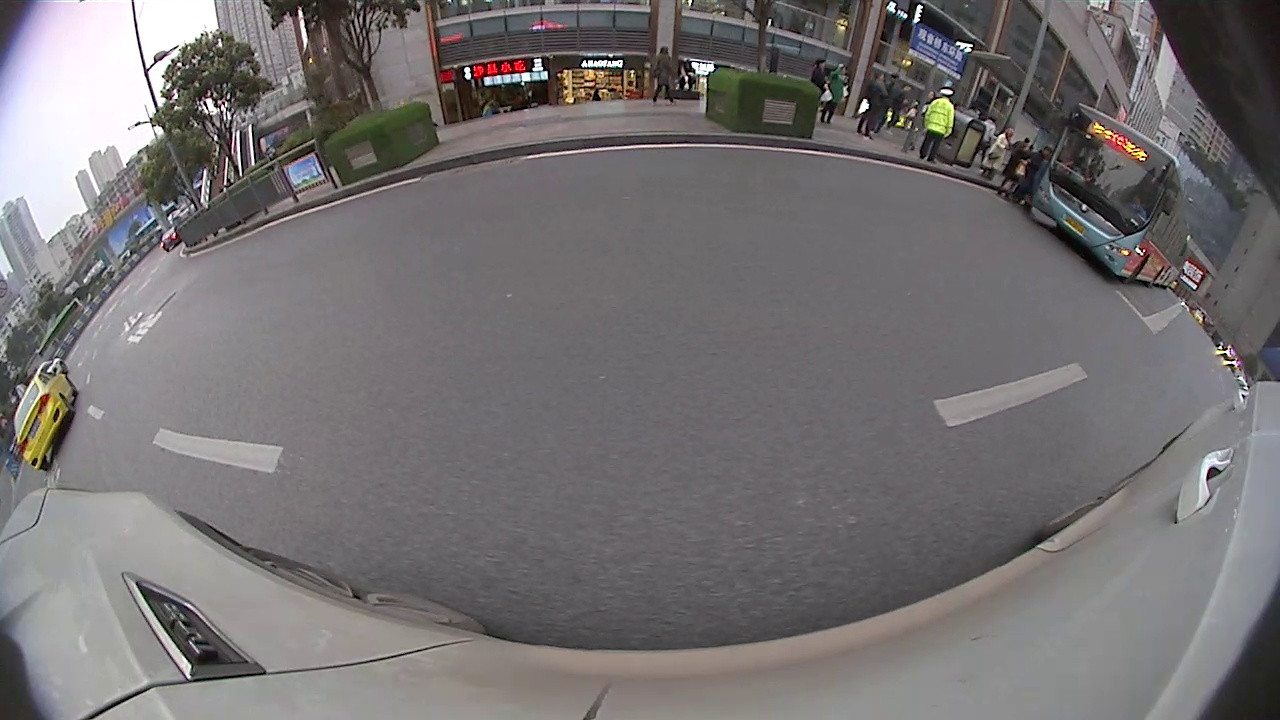bus: (1030, 103, 1186, 282)
car: (15, 369, 76, 468)
person: (930, 88, 951, 164), (826, 61, 843, 123), (870, 70, 885, 138), (992, 123, 1010, 179), (655, 46, 670, 102)
